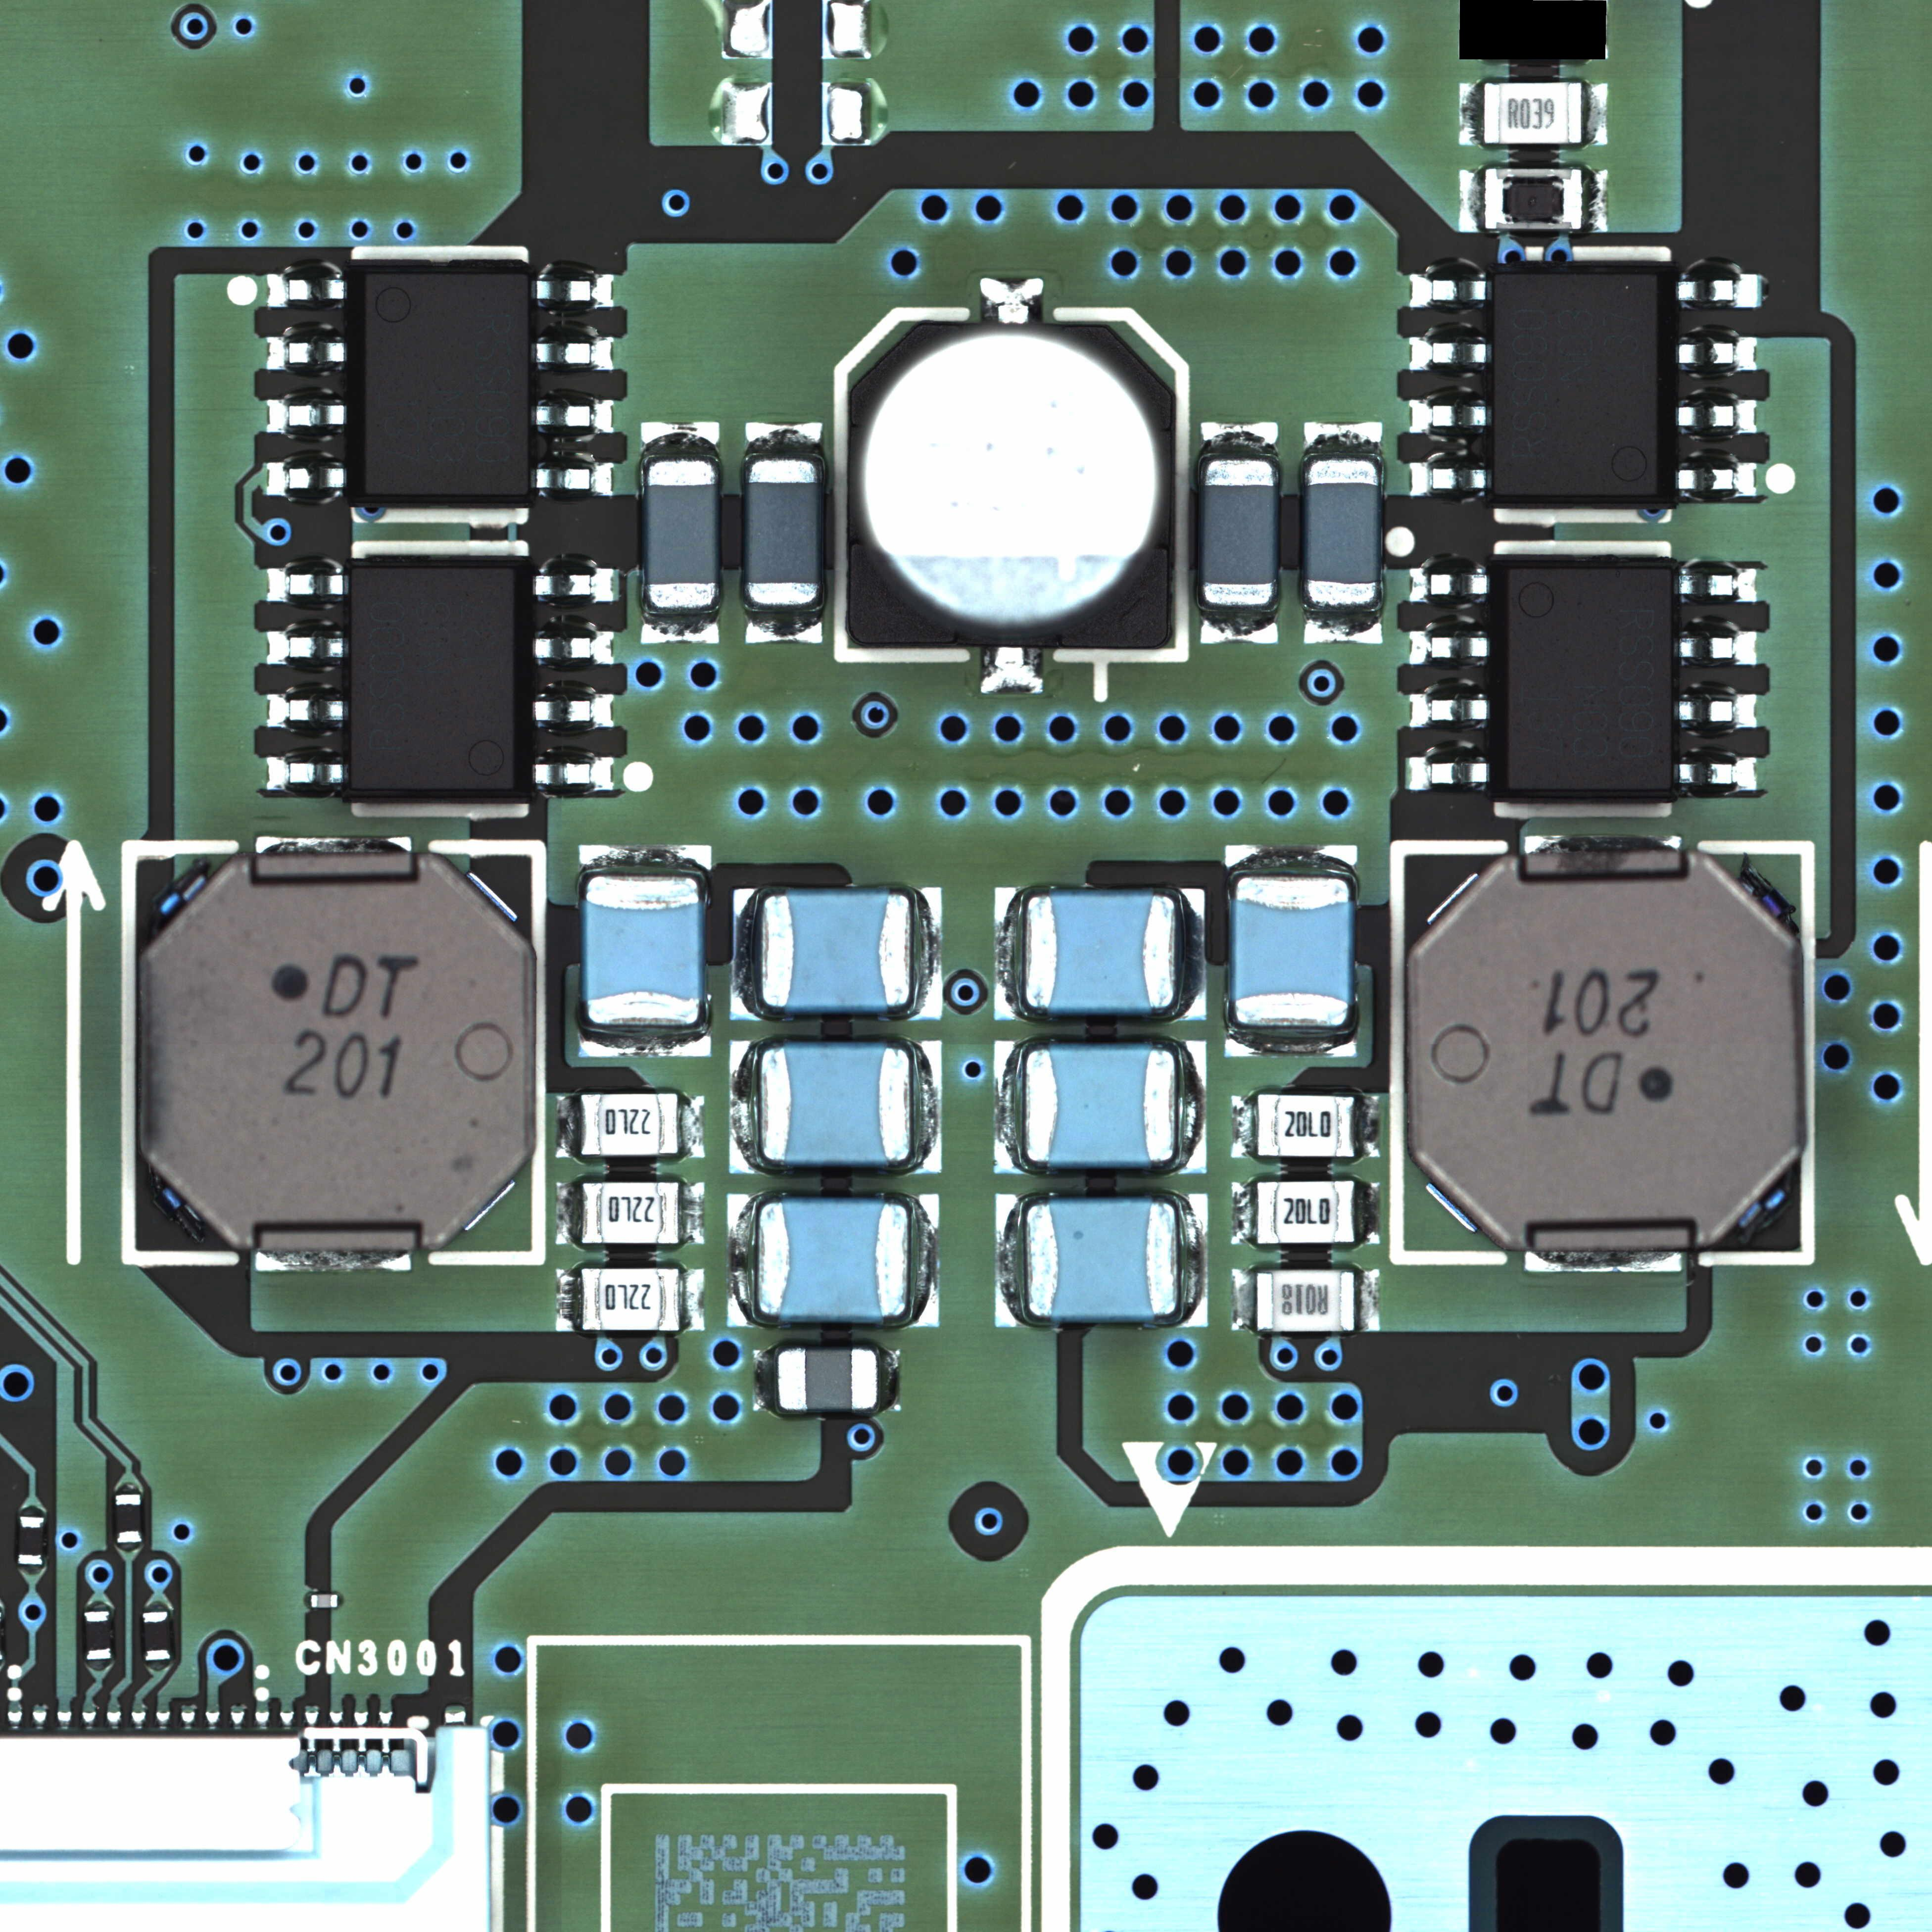Package: (1407, 851, 1806, 1251), (136, 855, 536, 1249), (847, 324, 1177, 648), (350, 556, 533, 805), (1493, 554, 1674, 803), (349, 260, 529, 508), (1493, 272, 1675, 510), (579, 874, 706, 1026), (1233, 878, 1352, 1028), (759, 1201, 908, 1316), (1026, 893, 1175, 1008), (1028, 1203, 1178, 1316), (761, 1047, 909, 1161), (1026, 1049, 1175, 1162), (763, 893, 909, 1007), (748, 458, 821, 605), (646, 458, 717, 609), (1306, 458, 1376, 607), (1203, 458, 1272, 605), (1256, 1180, 1355, 1246), (580, 1269, 681, 1330), (1258, 1093, 1355, 1157), (1256, 1270, 1355, 1332), (778, 1348, 878, 1410), (1484, 83, 1582, 145), (582, 1182, 679, 1244), (580, 1095, 679, 1155), (1486, 168, 1582, 230), (142, 1612, 172, 1661), (83, 1612, 111, 1660), (18, 1516, 44, 1566), (115, 1493, 142, 1543), (310, 1594, 338, 1608)
Solder: (1675, 253, 1771, 311), (1408, 320, 1493, 382), (1408, 550, 1491, 612), (1408, 255, 1493, 315), (1408, 386, 1493, 446), (265, 679, 350, 740), (264, 617, 350, 676), (531, 260, 616, 318), (1408, 448, 1493, 506), (531, 386, 616, 444), (1674, 743, 1760, 800), (533, 614, 614, 674), (1675, 681, 1759, 740), (533, 678, 616, 736), (264, 449, 349, 506), (1674, 324, 1759, 380), (531, 322, 616, 379), (1401, 740, 1491, 793), (1405, 676, 1491, 731), (1405, 614, 1491, 669), (1675, 386, 1759, 442), (1675, 446, 1759, 502), (265, 322, 349, 379), (265, 386, 349, 442), (533, 745, 616, 801), (531, 449, 616, 504), (265, 556, 350, 610), (265, 745, 350, 800), (729, 886, 763, 1023), (533, 554, 616, 609), (908, 1194, 941, 1329), (909, 1040, 943, 1175), (265, 258, 349, 311), (727, 1192, 759, 1329), (994, 1192, 1026, 1327), (1178, 1192, 1210, 1327), (1177, 1040, 1208, 1175), (993, 1040, 1024, 1175), (911, 886, 943, 1021), (579, 1026, 713, 1058), (729, 1040, 761, 1173), (1175, 888, 1207, 1021), (1674, 616, 1759, 665), (994, 886, 1024, 1023), (579, 844, 713, 874), (1224, 1028, 1357, 1058), (1226, 846, 1357, 876), (1675, 561, 1757, 603), (1525, 1251, 1683, 1272), (255, 1251, 412, 1272), (1200, 605, 1279, 644), (978, 648, 1044, 694), (640, 421, 720, 458), (980, 278, 1044, 324), (745, 421, 823, 458), (745, 607, 823, 644), (1304, 423, 1384, 458), (1304, 609, 1384, 644), (255, 835, 412, 853), (1200, 423, 1277, 458), (640, 610, 720, 644), (1525, 835, 1681, 851), (752, 1343, 777, 1417), (1458, 163, 1484, 232), (1582, 163, 1608, 232), (1230, 1095, 1258, 1157), (1458, 81, 1484, 147), (679, 1177, 704, 1246), (1355, 1095, 1380, 1164), (878, 1345, 902, 1414), (679, 1095, 706, 1159), (1582, 83, 1608, 147), (556, 1093, 580, 1159), (1355, 1180, 1380, 1246), (1355, 1269, 1380, 1332), (1231, 1182, 1256, 1246), (1231, 1269, 1256, 1332), (681, 1269, 706, 1332), (556, 1269, 580, 1332), (556, 1182, 580, 1246), (143, 1599, 172, 1612), (115, 1481, 142, 1493), (18, 1504, 44, 1516), (142, 1661, 170, 1672), (18, 1566, 46, 1576), (85, 1661, 111, 1672), (115, 1543, 142, 1553), (85, 1601, 111, 1610), (304, 1591, 310, 1608), (338, 1592, 343, 1606)
